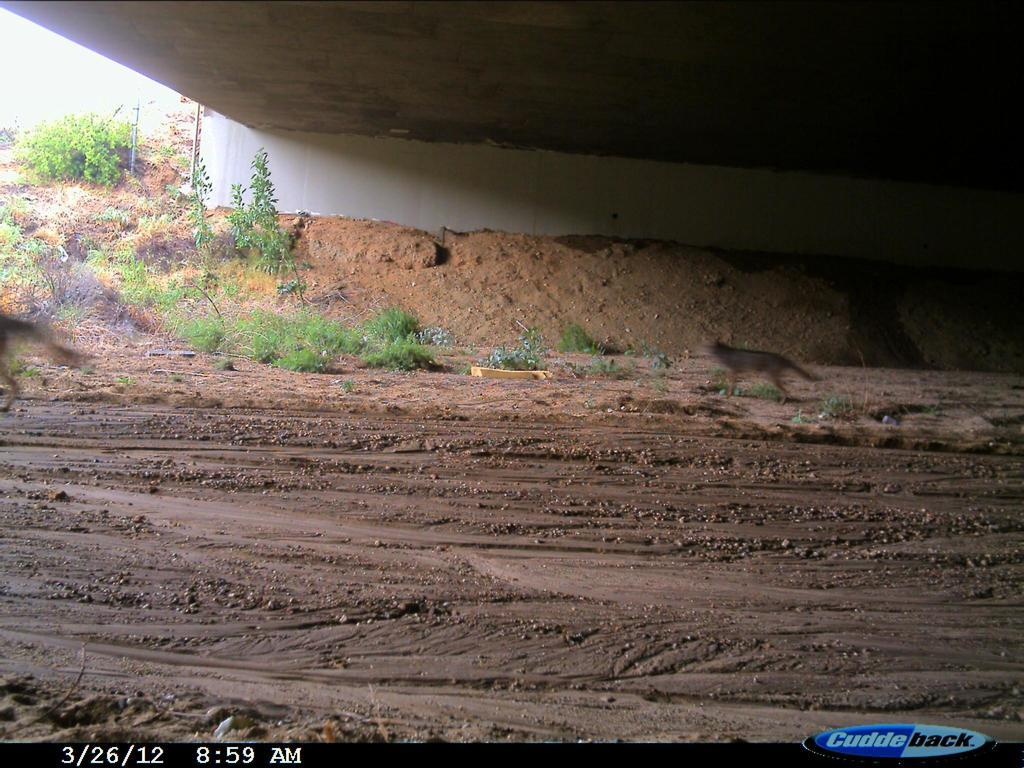coyote: (700, 323, 840, 414), (2, 303, 97, 428)
